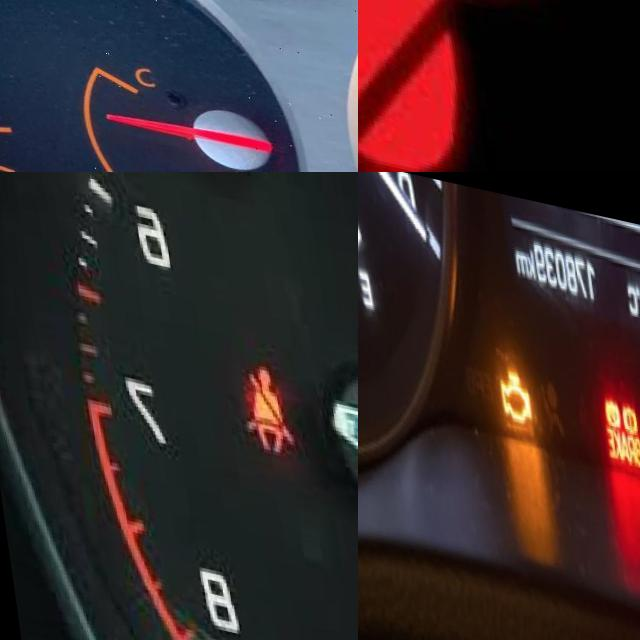Seat Belt: (358, 0, 585, 172), (231, 347, 285, 444)
